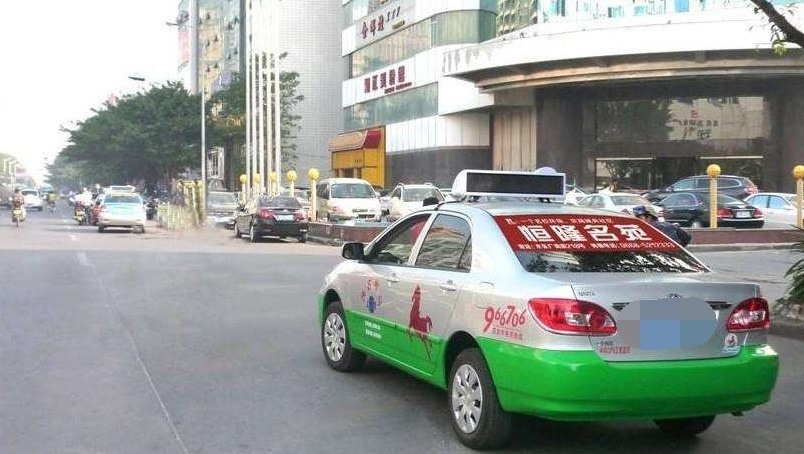taxi: (318, 163, 779, 439)
